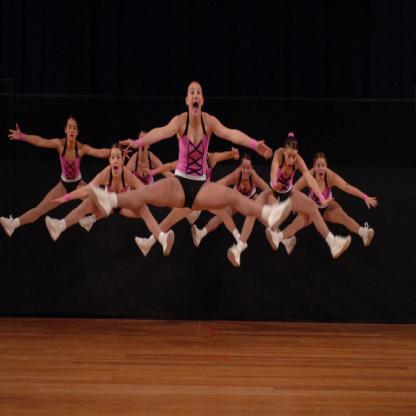face: (189, 84, 203, 117), (112, 150, 123, 177), (316, 159, 326, 183), (286, 149, 298, 168), (68, 120, 78, 141), (140, 134, 149, 156), (242, 160, 252, 179)
